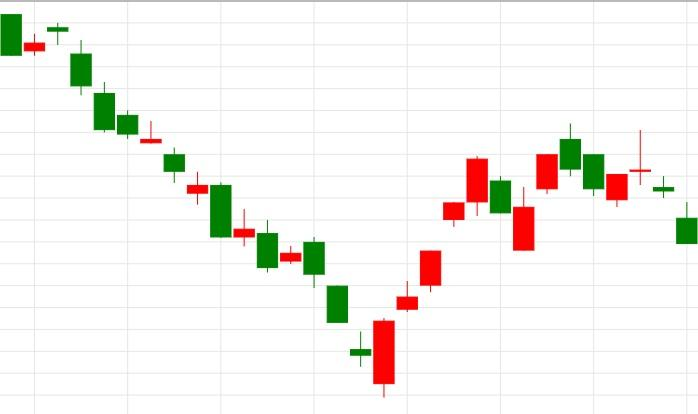bullish_engulfing_rise: (47, 22, 396, 397)
three_white_soldiers_rise: (47, 22, 443, 397)
